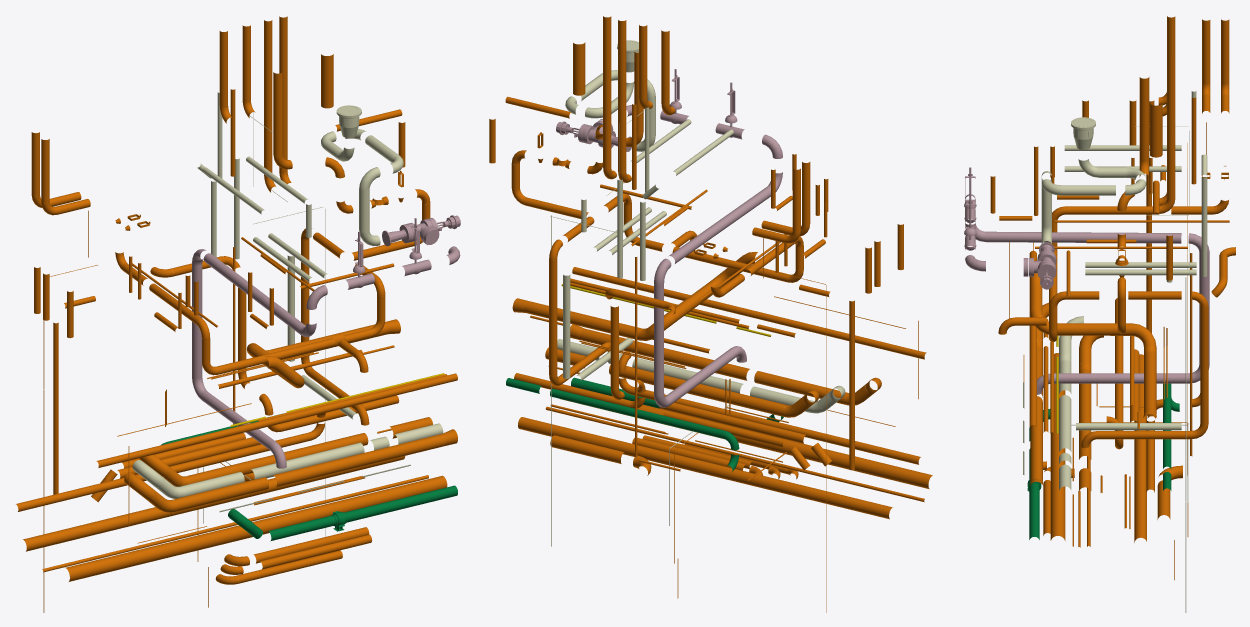
3 views of the same model, side by side, from view 1: azimuth 30°, elevation 25°; view 2: azimuth 150°, elevation 25°; view 3: azimuth 270°, elevation 25° (orthographic).
Size of the model in its own units: 23.13 by 30.61 by 13.2.
